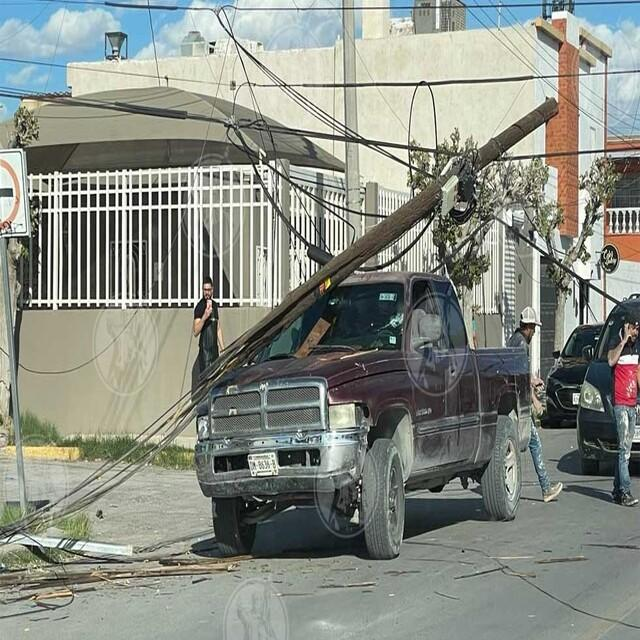Inclined Pole: (205, 95, 561, 382)
